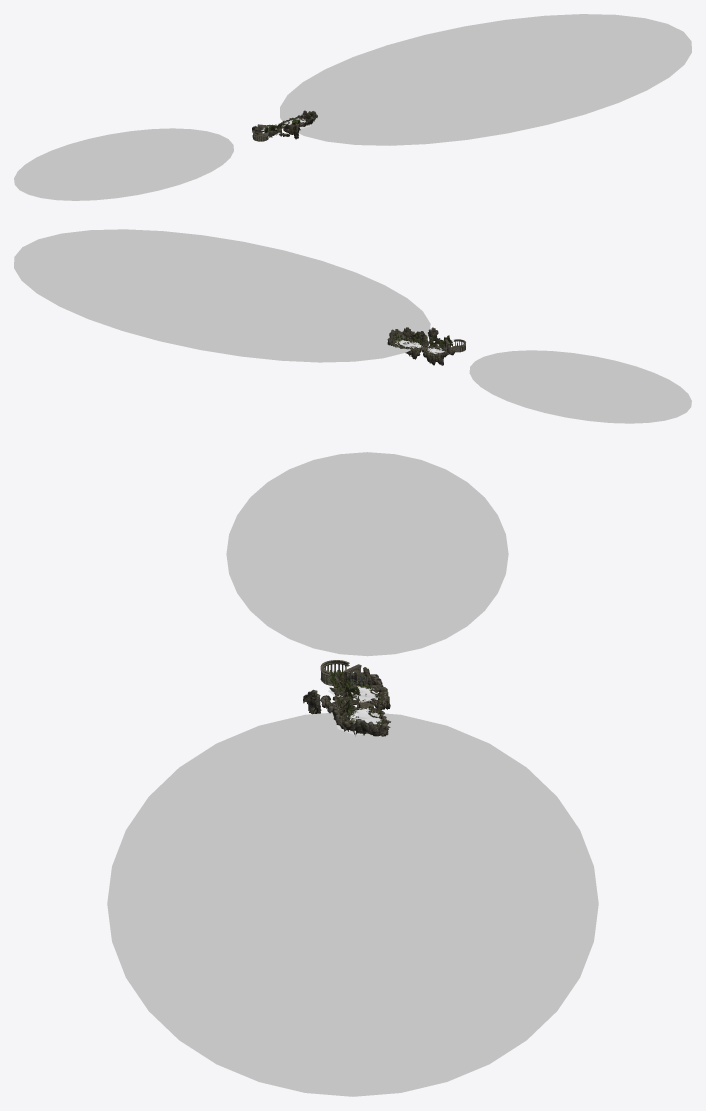
The model's file is stageProb.fbx.
3 views of the same model, one above another, from view 1: azimuth 30°, elevation 25°; view 2: azimuth 150°, elevation 25°; view 3: azimuth 270°, elevation 25° (orthographic). The views are drawn at different scales.
Parts seen in each view (by area): view 1: WaterProNighttime, WaterProNighttime (1), event_d03_01, event_d01_03; view 2: WaterProNighttime, WaterProNighttime (1), event_d03_01, event_d03_02; view 3: WaterProNighttime, WaterProNighttime (1), event_d03_01, event_d01_03.
Part boxes in pixels (left/top/right/bottom): WaterProNighttime: left=280, top=14, right=691, bottom=145; WaterProNighttime (1): left=14, top=128, right=233, bottom=200; event_d03_01: left=279, top=110, right=317, bottom=134; event_d01_03: left=253, top=124, right=284, bottom=141; WaterProNighttime: left=14, top=229, right=430, bottom=362; WaterProNighttime (1): left=469, top=350, right=691, bottom=423; event_d03_01: left=387, top=327, right=428, bottom=359; event_d03_02: left=423, top=343, right=455, bottom=365; WaterProNighttime: left=107, top=712, right=598, bottom=1096; WaterProNighttime (1): left=226, top=452, right=508, bottom=656; event_d03_01: left=325, top=699, right=390, bottom=736; event_d01_03: left=320, top=660, right=381, bottom=708.
Size of what is drawn, in the model's own units: 735 by 20.8 by 237.
